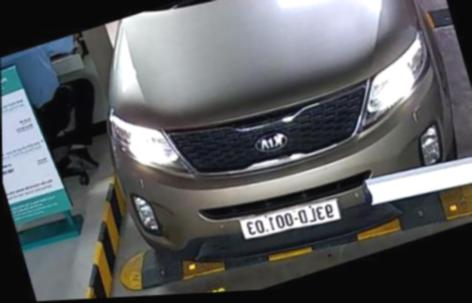License_Plate: (239, 191, 349, 246)
